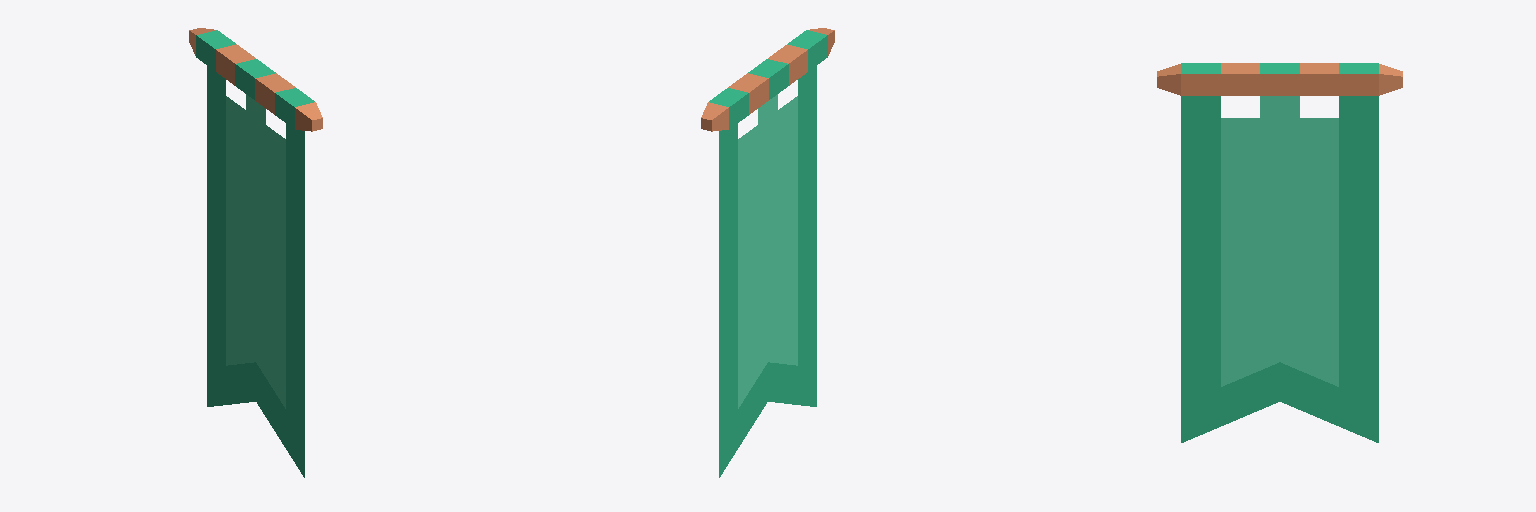
Rendered from bannerGreen.obj.
3 views of the same model, side by side, from view 1: azimuth 30°, elevation 25°; view 2: azimuth 150°, elevation 25°; view 3: azimuth 270°, elevation 25° (orthographic).
Visible parts, largest first — view 1: bannerGreen; view 2: bannerGreen; view 3: bannerGreen.
Part boxes in pixels (bbox=[...]): bannerGreen: bbox=[189, 28, 322, 477]; bannerGreen: bbox=[701, 28, 834, 477]; bannerGreen: bbox=[1157, 63, 1402, 442].
Bounding box in the file's own units: 0.05 × 0.8394 × 0.5.